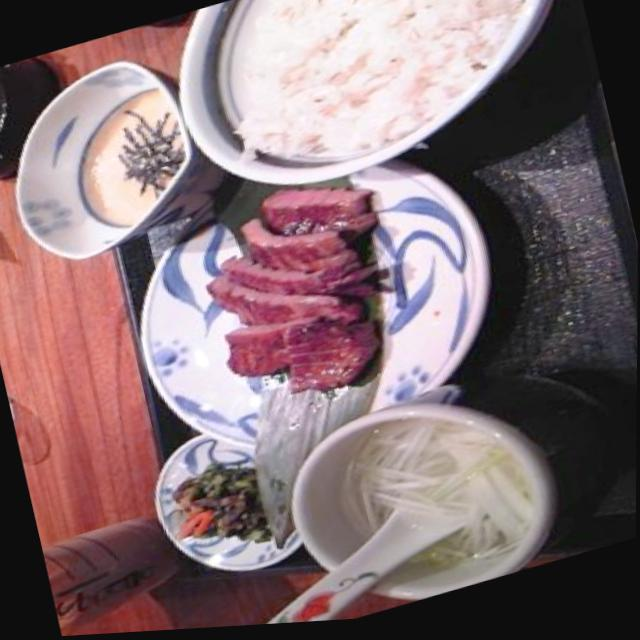米饭主食: (149, 0, 605, 228)
